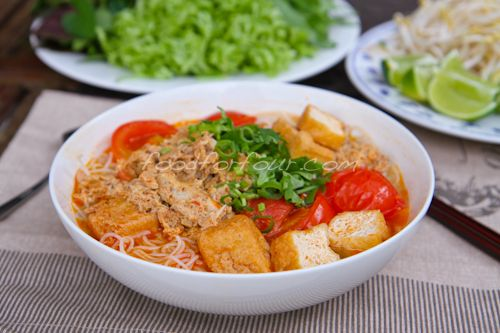onion: (197, 116, 271, 154)
rieu: (134, 177, 216, 222)
tofu: (197, 218, 269, 275), (275, 105, 342, 156), (88, 196, 160, 241), (271, 228, 337, 274), (326, 208, 390, 251)
tomato: (306, 170, 401, 215), (102, 108, 184, 157)
